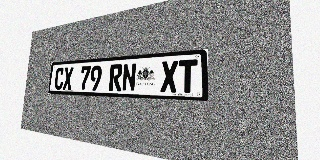7: (79, 66, 91, 90)
9: (89, 65, 102, 91)
C: (54, 67, 64, 90)
N: (122, 63, 137, 92)
R: (109, 64, 123, 91)
T: (178, 59, 197, 93)
X: (160, 60, 178, 93), (63, 67, 73, 90)
